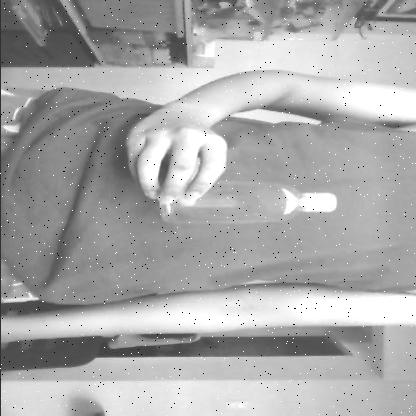Plastic Bottle: (154, 173, 344, 229)
